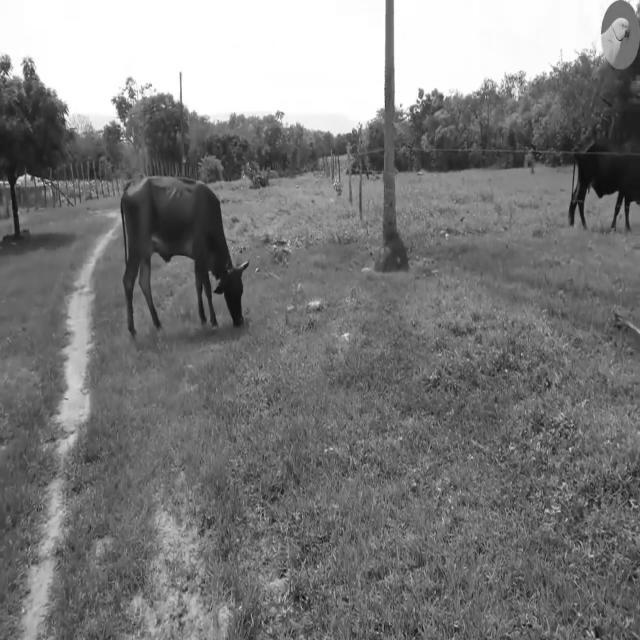cow: (122, 176, 248, 336)
